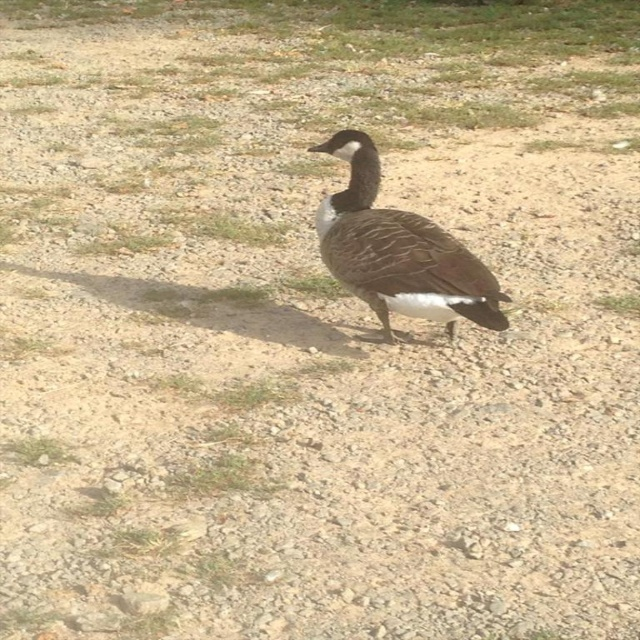Duck: (293, 121, 512, 343)
